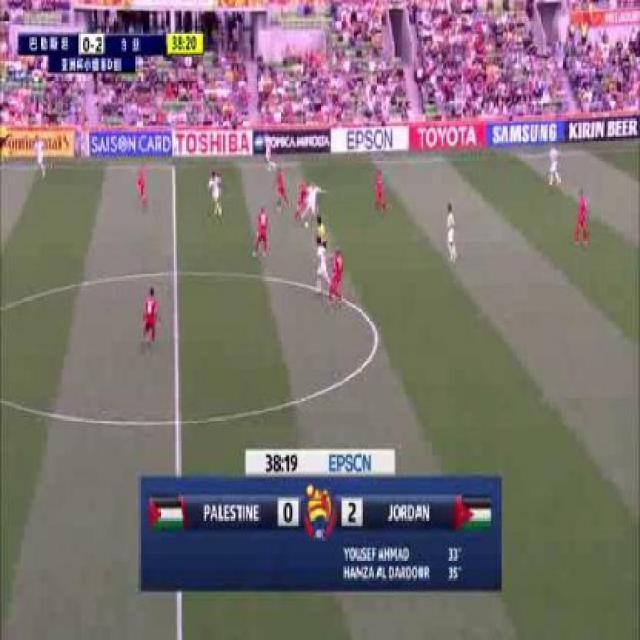player: (141, 285, 162, 351), (443, 201, 464, 267), (203, 168, 229, 217), (573, 185, 592, 249), (312, 237, 331, 295), (270, 164, 291, 215), (253, 203, 271, 262), (373, 164, 392, 217), (332, 248, 348, 308), (136, 163, 155, 209), (547, 141, 565, 189), (260, 131, 280, 169), (34, 135, 49, 181), (307, 178, 322, 216), (292, 175, 304, 220)
referee: (315, 215, 330, 243)
